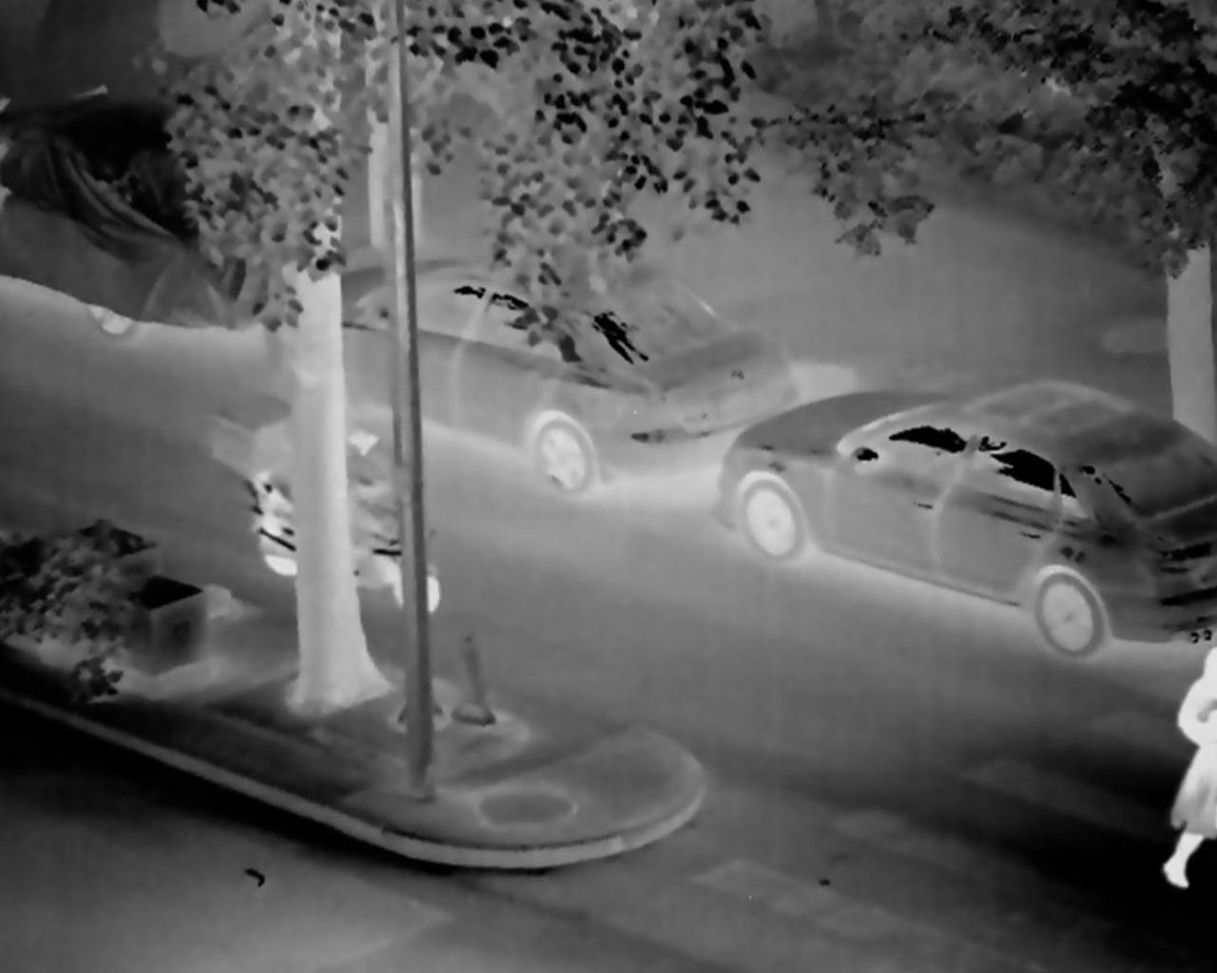person: (1159, 639, 1217, 887)
